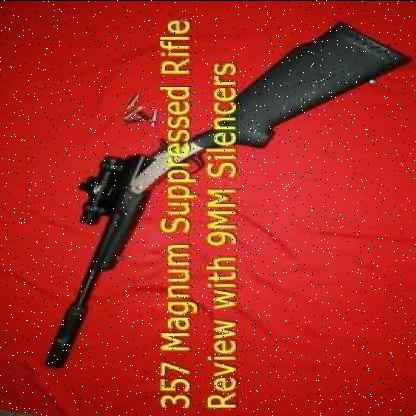rifle: (31, 11, 401, 370)
